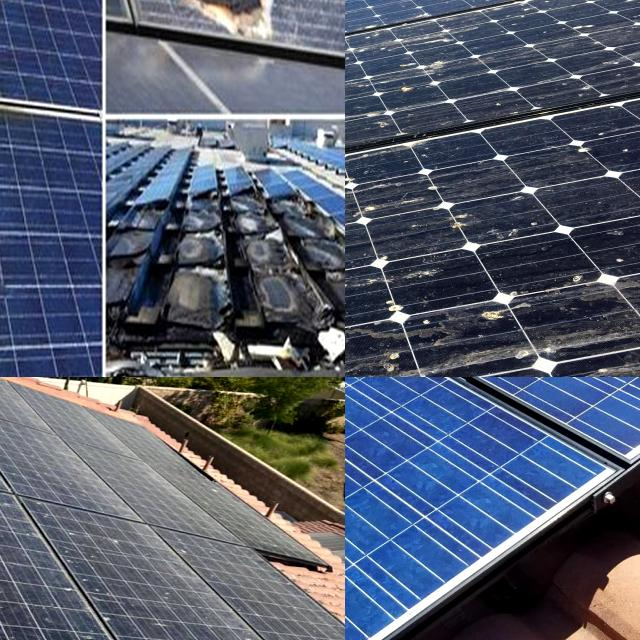bird: (402, 206, 502, 255), (396, 50, 472, 105), (63, 526, 124, 584), (89, 590, 164, 636), (462, 298, 533, 335), (345, 179, 386, 236), (0, 470, 34, 535), (0, 565, 34, 619), (345, 299, 387, 337), (345, 98, 374, 149), (345, 279, 384, 311), (0, 457, 22, 509), (0, 596, 24, 629), (196, 478, 222, 508), (0, 476, 16, 519), (0, 535, 17, 562)
crack: (455, 377, 640, 485), (345, 426, 453, 529), (390, 452, 538, 521), (345, 450, 421, 548), (345, 434, 396, 504)
shadow: (0, 0, 49, 377), (139, 0, 302, 100), (101, 201, 166, 306), (156, 278, 234, 330), (248, 269, 310, 333), (184, 232, 236, 278), (236, 222, 284, 266), (306, 244, 345, 273), (289, 220, 345, 240), (265, 194, 319, 213)
